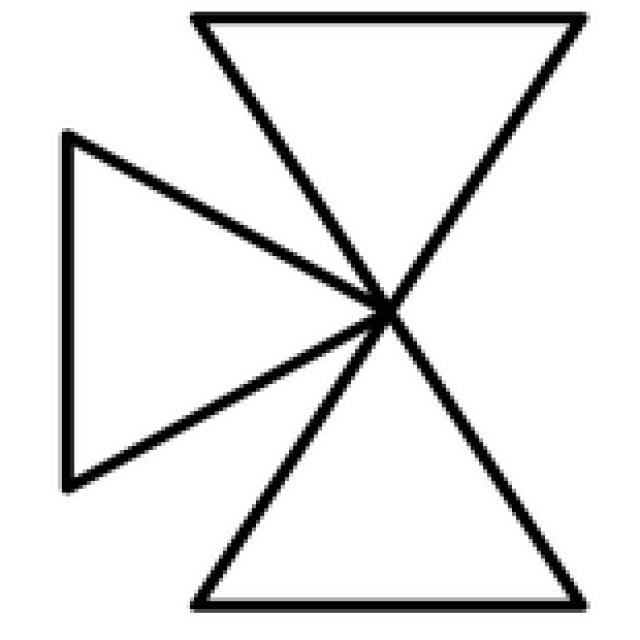3-way Valve: (69, 125, 389, 487), (197, 307, 581, 606), (192, 15, 586, 304)
